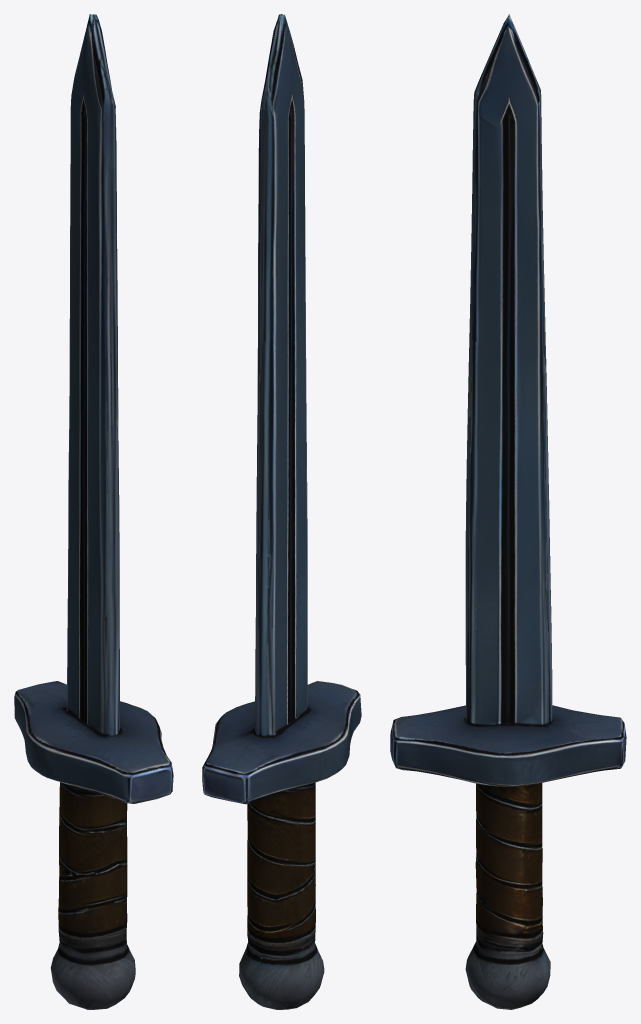
Rendered from tripo_convert_e70d9eb4-21eb-4232-93f7-3bacf9e201c3.fbx.
3 renders of one model, left to right at view 1: azimuth 30°, elevation 25°; view 2: azimuth 150°, elevation 25°; view 3: azimuth 270°, elevation 25°, orthographic.
Visible parts, largest first — view 1: tripo_node_e70d9eb4; view 2: tripo_node_e70d9eb4; view 3: tripo_node_e70d9eb4.
Part boxes in pixels (x1=…): tripo_node_e70d9eb4: x1=14, y1=14, x2=173, y2=1009; tripo_node_e70d9eb4: x1=202, y1=14, x2=361, y2=1009; tripo_node_e70d9eb4: x1=390, y1=14, x2=626, y2=1009.
Bounding box in the file's own units: 0.1227 × 1 × 0.2164.
Materials: 1 (1 with a texture image).
